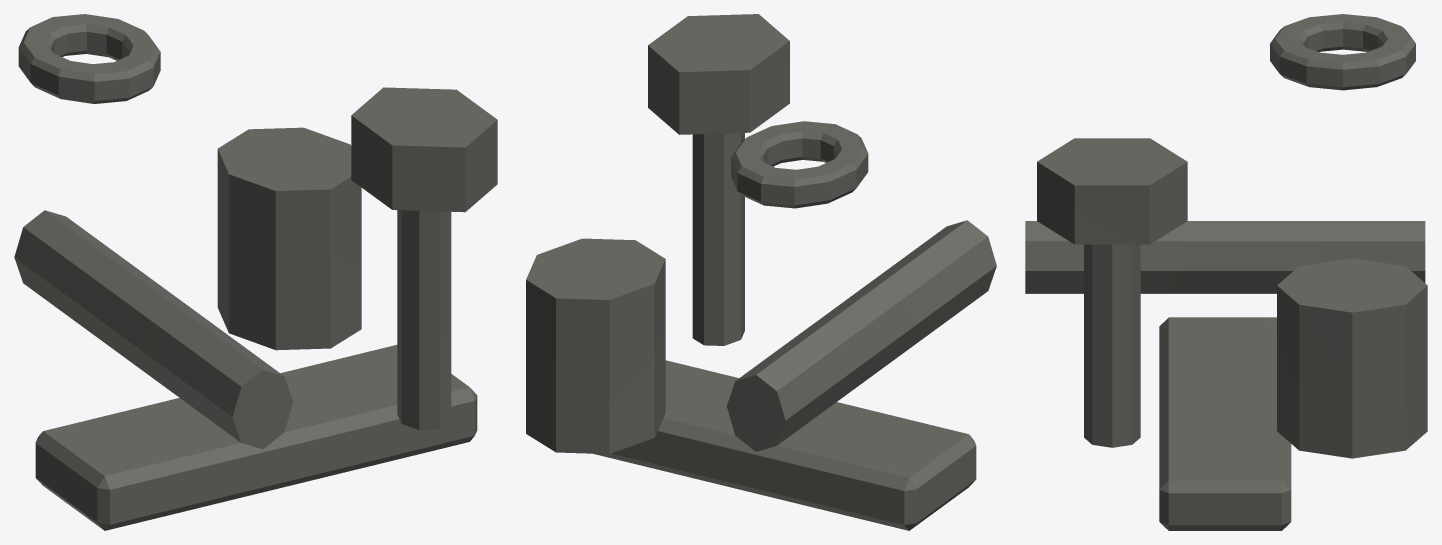
The model's file is WarrensC_CCS42_FastenerAndPinKit_Mars_SM.fbx.
The picture shows the model from 3 angles, left to right: view 1: azimuth 30°, elevation 25°; view 2: azimuth 150°, elevation 25°; view 3: azimuth 270°, elevation 25°; orthographic projection. The views are drawn at different scales.
Visible parts, largest first — view 1: WarrensC_CCS42_FastenerAndPinKit_Mars_SM.001; view 2: WarrensC_CCS42_FastenerAndPinKit_Mars_SM.001; view 3: WarrensC_CCS42_FastenerAndPinKit_Mars_SM.001.
Part boxes in pixels (x1,y1,x2,y2): WarrensC_CCS42_FastenerAndPinKit_Mars_SM.001: [14, 14, 497, 530]; WarrensC_CCS42_FastenerAndPinKit_Mars_SM.001: [526, 14, 996, 530]; WarrensC_CCS42_FastenerAndPinKit_Mars_SM.001: [1025, 14, 1427, 530].
Size of the model in its own units: 20 by 20 by 20.
